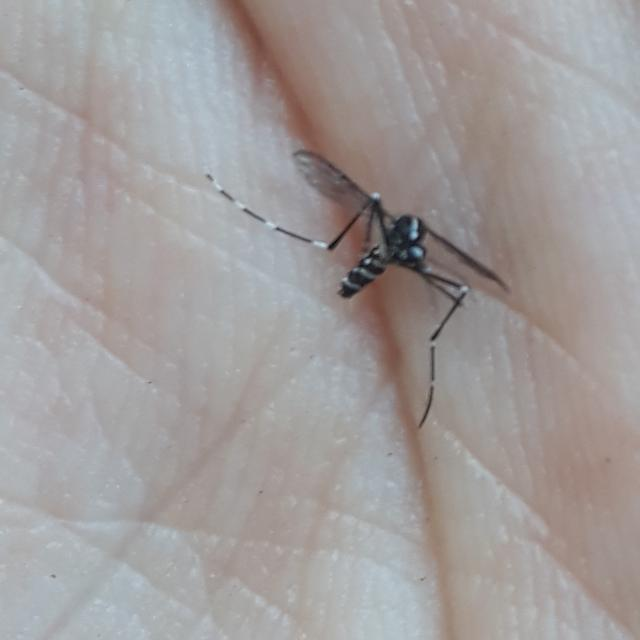albopictus: (188, 129, 528, 440)
